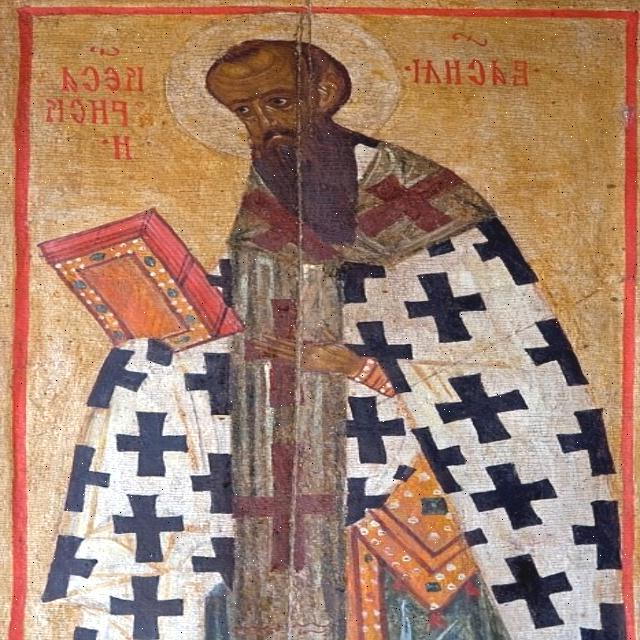aura: (163, 12, 414, 172)
book: (47, 198, 243, 365)
cross: (235, 437, 341, 572), (433, 364, 534, 444), (471, 452, 561, 531), (403, 269, 495, 343), (497, 551, 578, 634), (104, 490, 193, 564), (108, 571, 194, 640), (114, 408, 193, 479)
saint: (106, 10, 470, 636)
